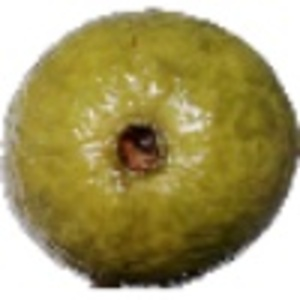goiaba: (3, 6, 295, 293)
